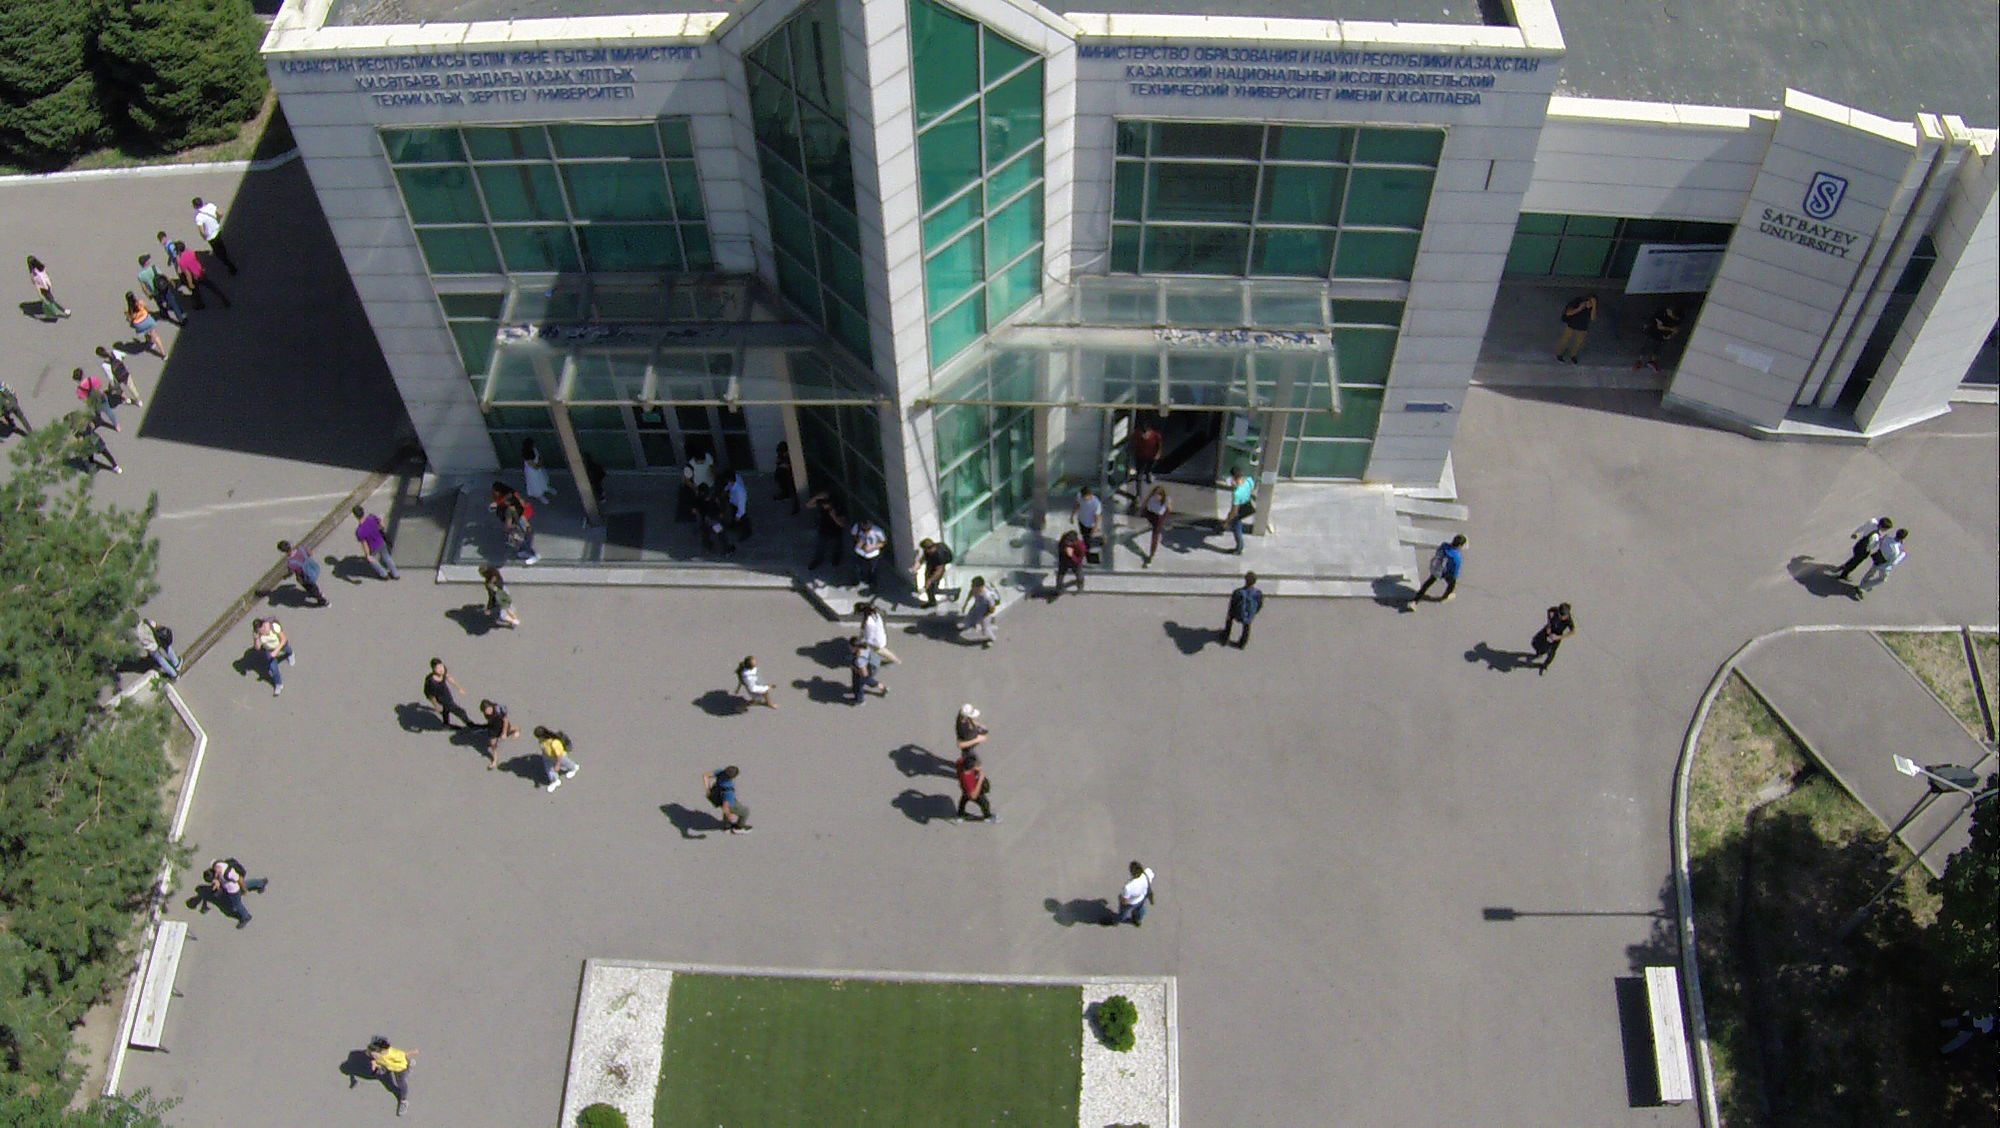person: (200, 847, 273, 937), (359, 1026, 424, 1122), (1401, 532, 1471, 619), (698, 757, 757, 844), (127, 610, 188, 684), (1527, 601, 1582, 678), (911, 534, 962, 615), (247, 618, 300, 697), (276, 539, 331, 611), (94, 342, 151, 411), (1214, 570, 1263, 651), (1550, 294, 1602, 367), (1133, 488, 1177, 573), (959, 572, 1002, 658), (1631, 308, 1684, 375), (538, 722, 586, 796), (948, 755, 997, 827), (1841, 508, 1891, 577), (122, 290, 170, 362), (1116, 856, 1160, 933), (1045, 529, 1092, 600), (355, 507, 397, 585), (177, 240, 227, 308), (1223, 458, 1257, 554), (195, 190, 236, 269), (426, 654, 469, 731), (808, 489, 846, 572), (72, 367, 122, 428), (838, 641, 889, 703), (30, 254, 74, 322), (1867, 530, 1913, 594), (948, 701, 998, 758), (849, 513, 880, 601), (737, 656, 783, 716), (482, 693, 516, 772), (1077, 487, 1112, 560), (688, 493, 728, 554), (503, 499, 537, 567), (480, 563, 514, 629), (521, 449, 551, 508), (726, 475, 754, 537), (852, 604, 885, 651), (683, 445, 720, 487), (772, 444, 791, 512)
